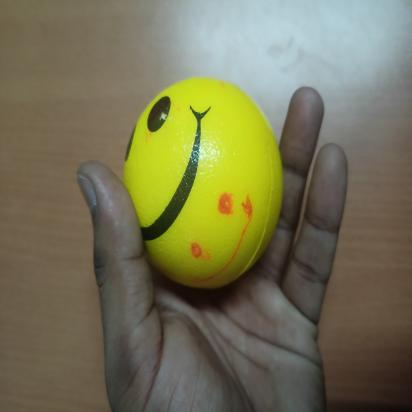Yellowball: (118, 69, 287, 296)
